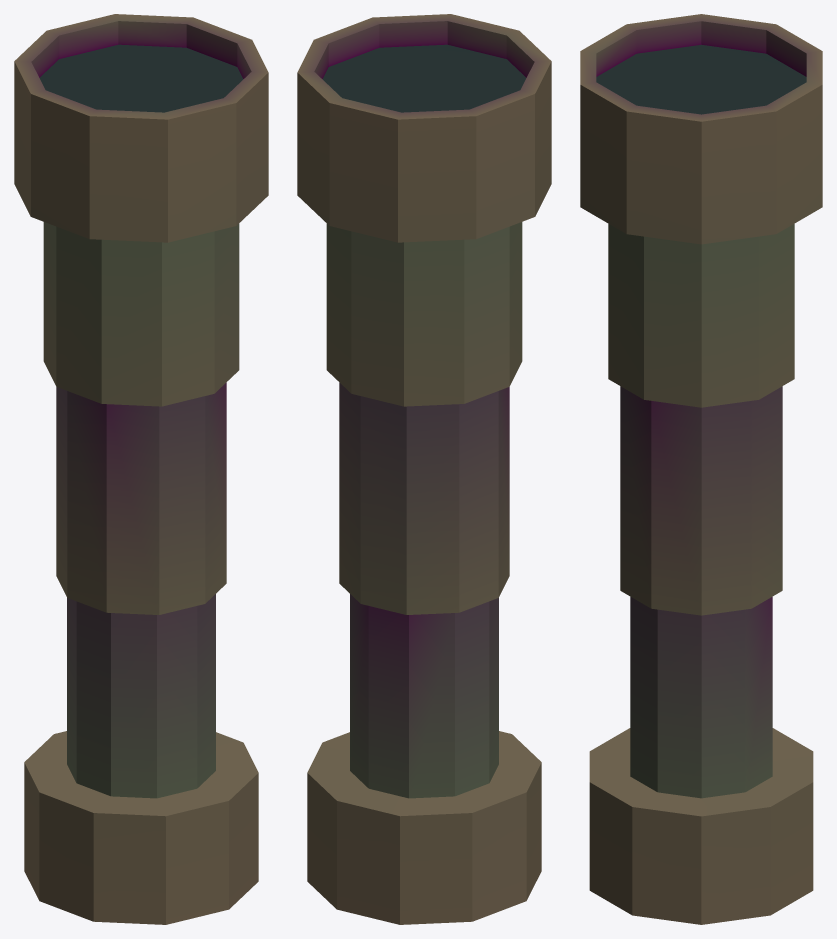
3 views of the same model, side by side, from view 1: azimuth 30°, elevation 25°; view 2: azimuth 150°, elevation 25°; view 3: azimuth 270°, elevation 25° (orthographic).
Parts seen in each view (by area): view 1: lower, head, foot, dark_floor; view 2: lower, head, foot, dark_floor; view 3: lower, head, foot, dark_floor.
Boxes of the visible parts, x1=… form: lower: x1=43, y1=222, x2=239, y2=798; head: x1=14, y1=14, x2=268, y2=242; foot: x1=24, y1=731, x2=258, y2=924; dark_floor: x1=39, y1=44, x2=243, y2=112; lower: x1=326, y1=222, x2=522, y2=798; head: x1=297, y1=14, x2=551, y2=242; foot: x1=307, y1=731, x2=541, y2=924; dark_floor: x1=322, y1=44, x2=526, y2=112; lower: x1=608, y1=224, x2=794, y2=798; head: x1=580, y1=14, x2=822, y2=244; foot: x1=589, y1=728, x2=813, y2=924; dark_floor: x1=596, y1=44, x2=806, y2=114.
Size of the model in its own units: 0.0715 by 0.25 by 0.068.
